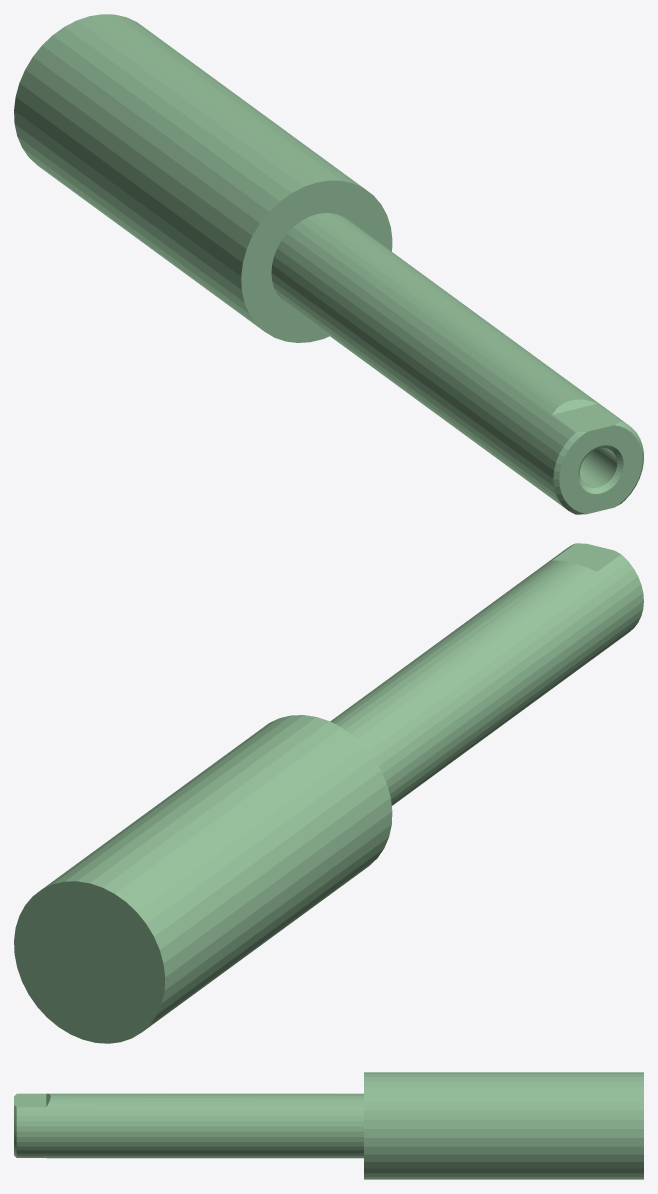
Rendered from case-02_lib00004.glb.
3 renders of one model, top to bottom at view 1: azimuth 30°, elevation 25°; view 2: azimuth 150°, elevation 25°; view 3: azimuth 270°, elevation 25°, orthographic. The views are drawn at different scales.
Parts seen in each view (by area): view 1: lib00004; view 2: lib00004; view 3: lib00004.
Boxes of the visible parts, left/top/right/bottom form: lib00004: left=14, top=14, right=643, bottom=514; lib00004: left=14, top=543, right=643, bottom=1043; lib00004: left=14, top=1072, right=643, bottom=1179.
Bounding box in the file's own units: 9.99 × 9.98 × 58.5.
